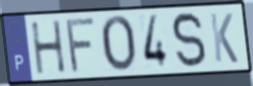4: (142, 12, 171, 72)
F: (65, 15, 98, 75)
H: (28, 18, 68, 77)
K: (208, 12, 240, 65)
O: (99, 14, 138, 74)
S: (170, 10, 208, 71)
